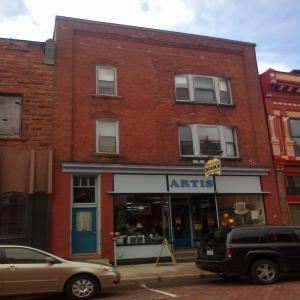Vehicle-registration-plate: (209, 251, 215, 257)
